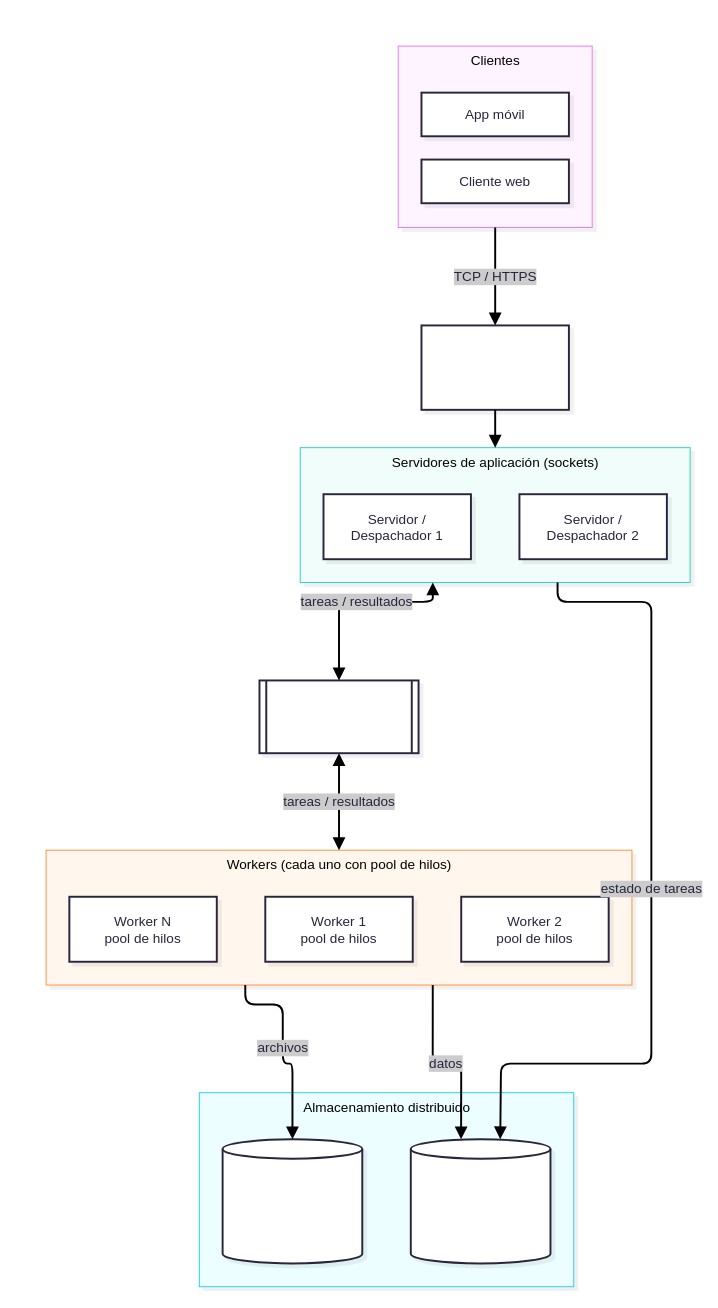
Image size: 718x1308. Some labels were removed from this diagram. Each missing label, with the centre of its shape:
"Balanceador de carga Nginx / HAProxy" belongs at pixel 496 369.
"Cola de mensajes RabbitMQ" belongs at pixel 340 718.
"PostgreSQL primario + réplicas" belongs at pixel 482 1203.
"S3 archivos y resultados" belongs at pixel 294 1203.
